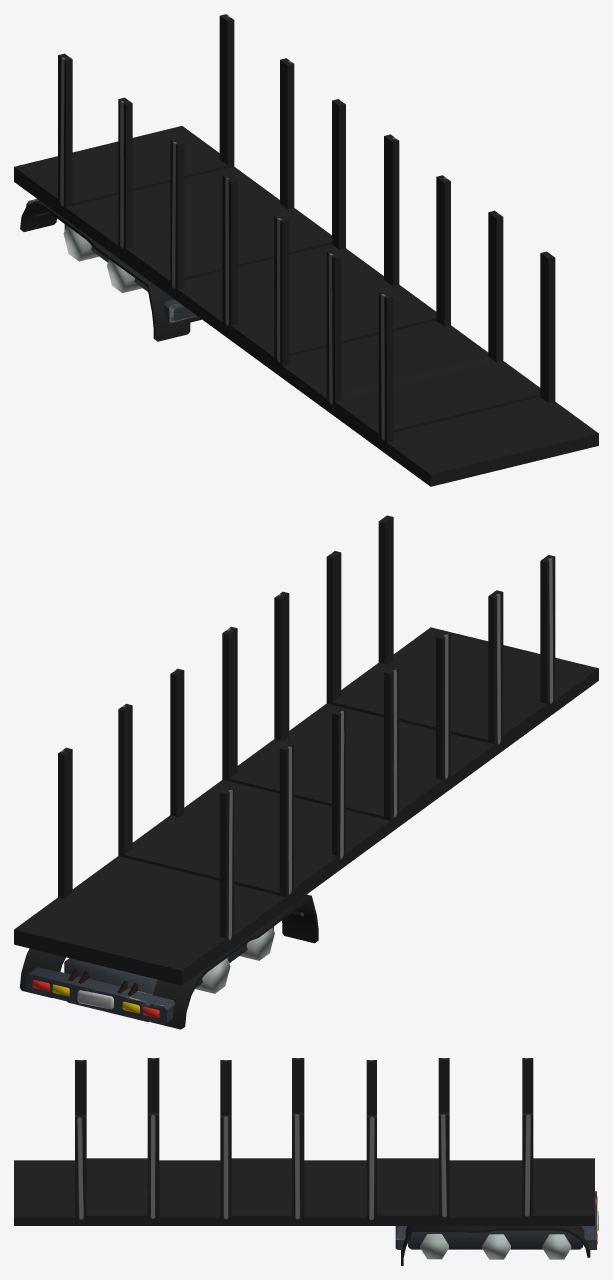
The model's file is logtruckk.fbx.
3 views of the same model, one above another, from view 1: azimuth 30°, elevation 25°; view 2: azimuth 150°, elevation 25°; view 3: azimuth 270°, elevation 25° (orthographic). The views are drawn at different scales.
Visible parts, largest first — view 1: bucket; view 2: bucket; view 3: bucket.
Boxes of the visible parts, box(x1,y1,x2,y2) form: bucket: box(14, 14, 598, 486); bucket: box(14, 515, 598, 1029); bucket: box(14, 1058, 598, 1265).
Size of the model in its own units: 270 by 341 by 1165.
